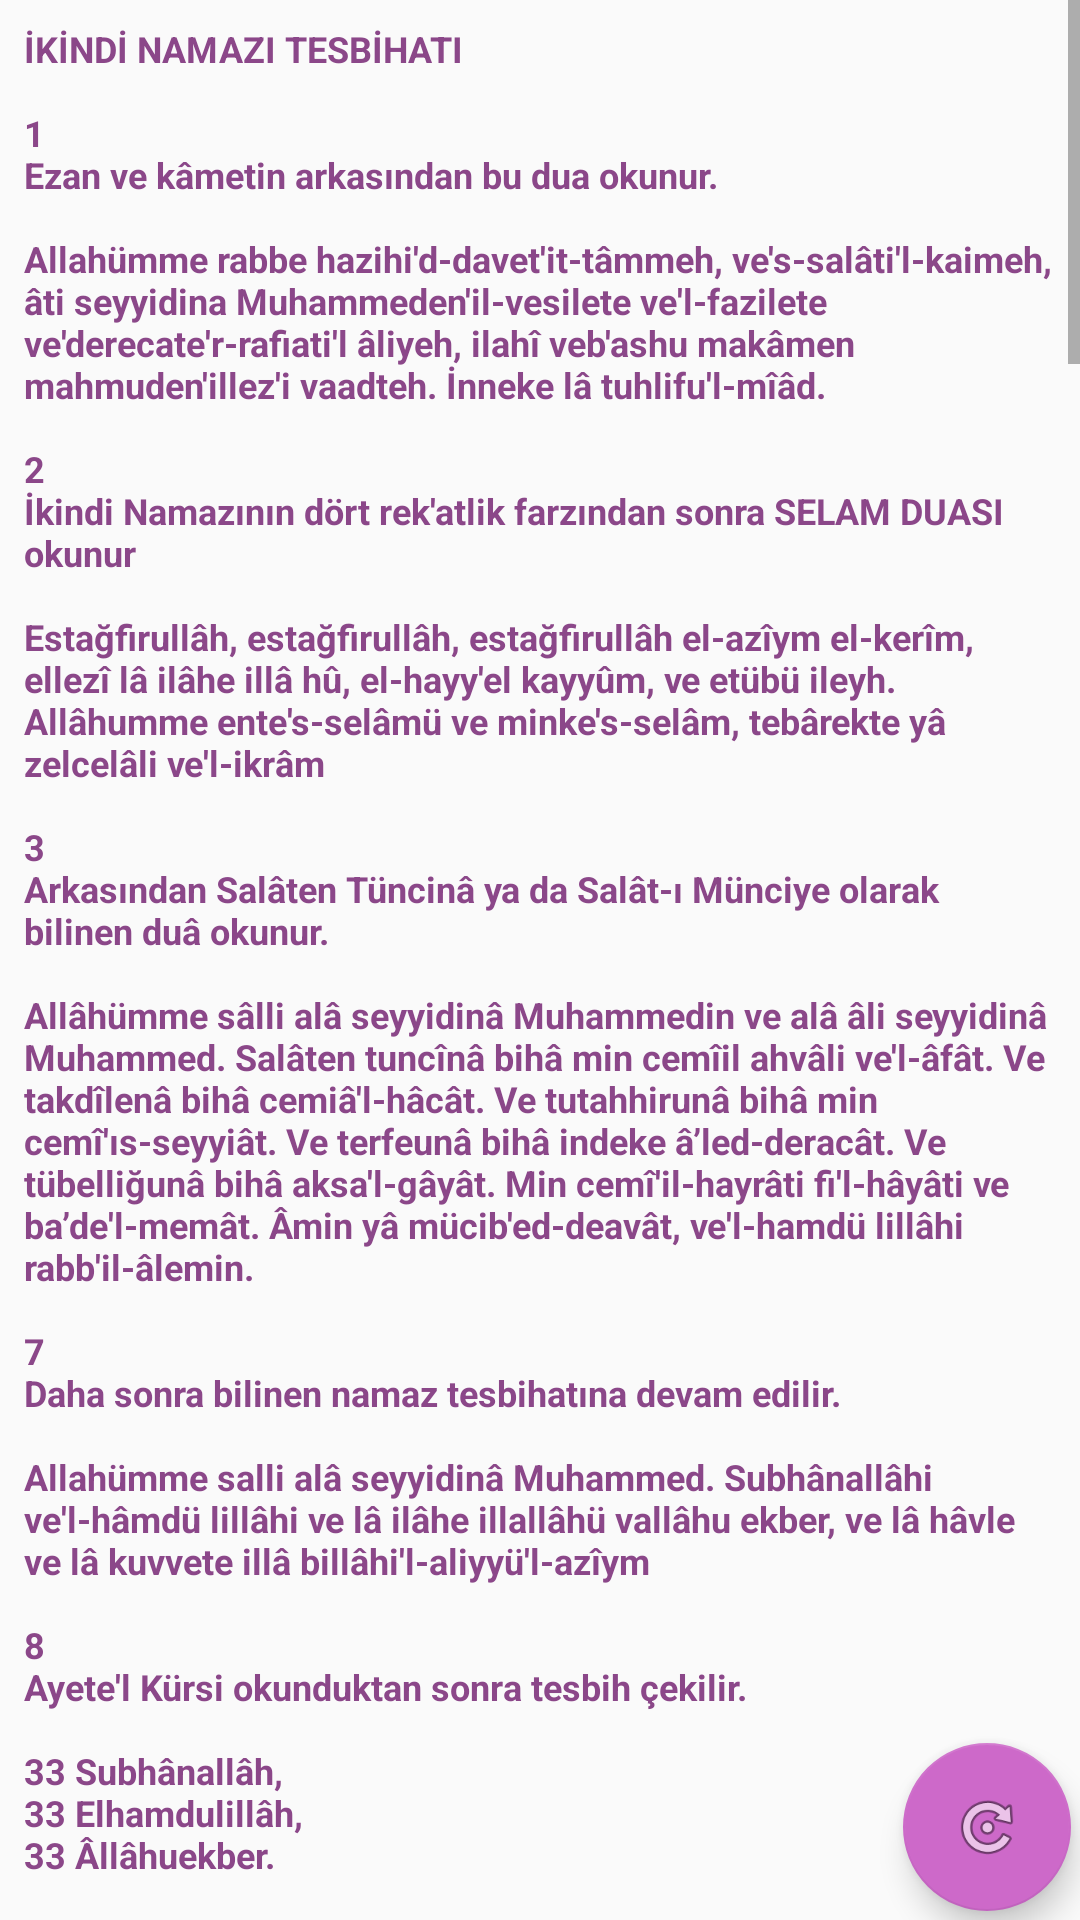

Icons on this 1080px x 1920px Android screen, each with its box as box=[x1, y1, x2, y2]:
rotate: box=[903, 1743, 1071, 1911]
